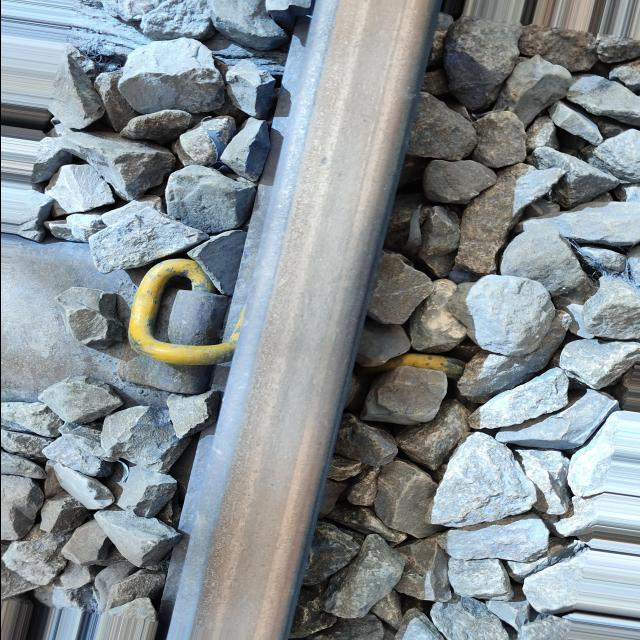broken_rail_medium: (318, 156, 329, 168)
